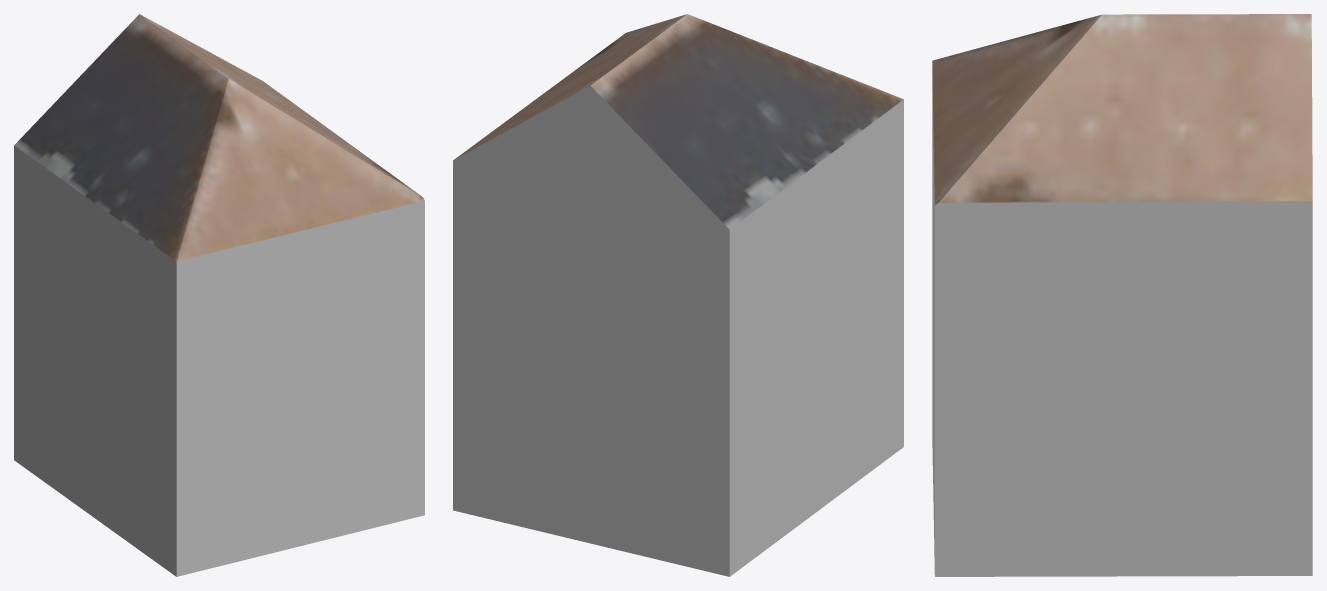
The model's file is DEBW_0010007Txid.gltf.
The picture shows the model from 3 angles, left to right: view 1: azimuth 30°, elevation 25°; view 2: azimuth 150°, elevation 25°; view 3: azimuth 270°, elevation 25°; orthographic projection. The views are drawn at different scales.
Visible parts, largest first — view 1: Z_UP; view 2: Z_UP; view 3: Z_UP.
Boxes of the visible parts, <box> form: Z_UP: <box>14,14,424,576</box>; Z_UP: <box>453,14,903,576</box>; Z_UP: <box>932,14,1312,576</box>.
Size of the model in its own units: 11.19 by 17.64 by 12.41.
Materials: 2 (1 with a texture image).
